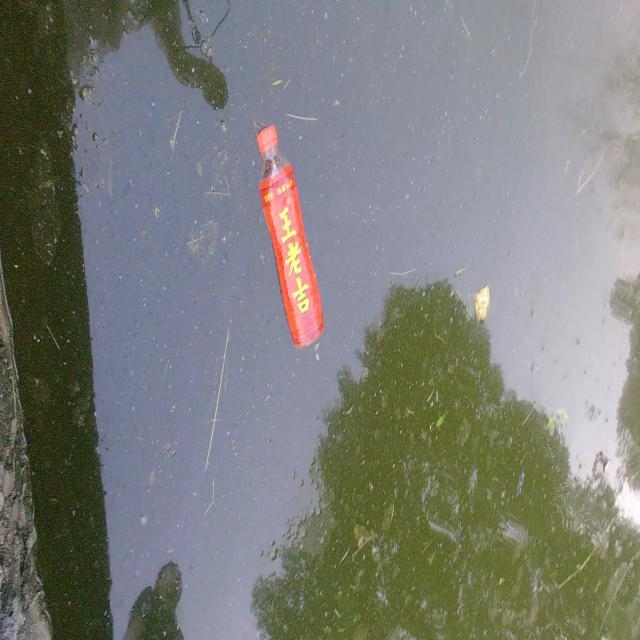bottle: (238, 118, 347, 356)
